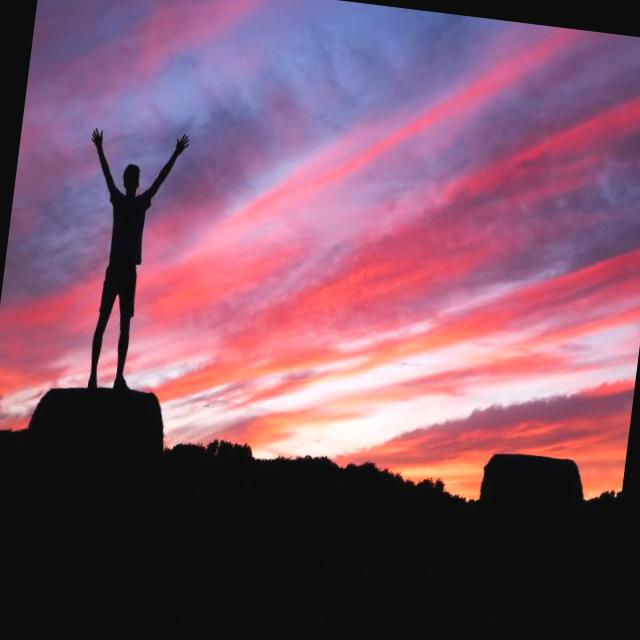person: (58, 122, 190, 396)
